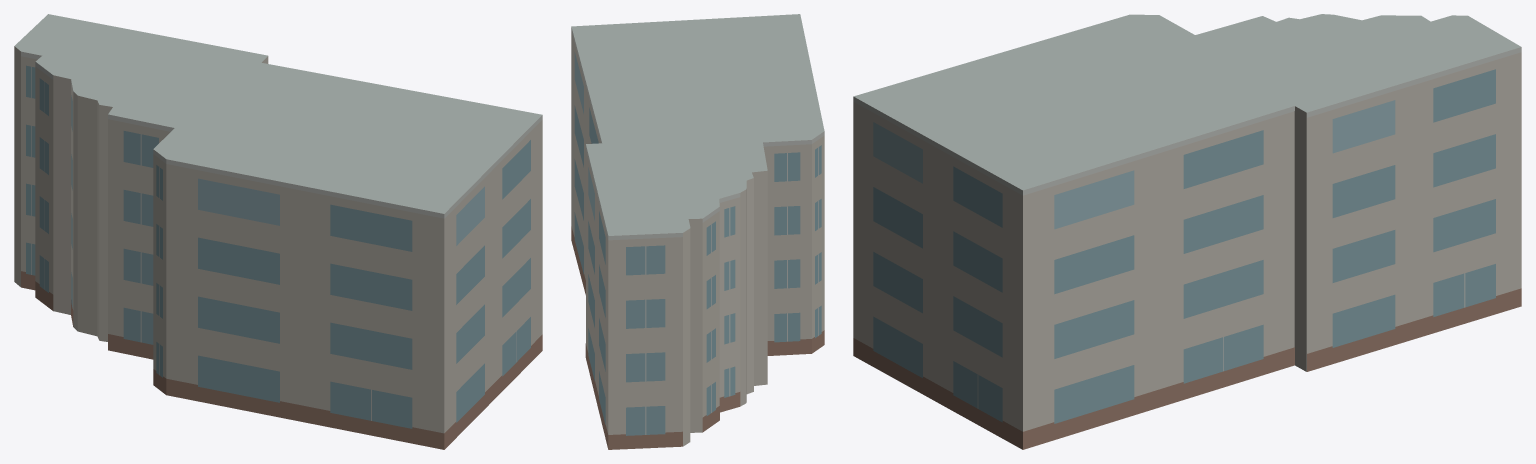
Rendered from survey-upis-32584383.glb.
3 views of the same model, side by side, from view 1: azimuth 30°, elevation 25°; view 2: azimuth 150°, elevation 25°; view 3: azimuth 270°, elevation 25° (orthographic). The views are drawn at different scales.
Visible parts, largest first — view 1: survey-upis-32584383.tmp; view 2: survey-upis-32584383.tmp; view 3: survey-upis-32584383.tmp.
Boxes of the visible parts, x1=… form: survey-upis-32584383.tmp: x1=14, y1=14, x2=542, y2=449; survey-upis-32584383.tmp: x1=571, y1=14, x2=824, y2=449; survey-upis-32584383.tmp: x1=853, y1=14, x2=1521, y2=449.
Bounding box in the file's own units: 17.81 × 12.2 × 28.49.
